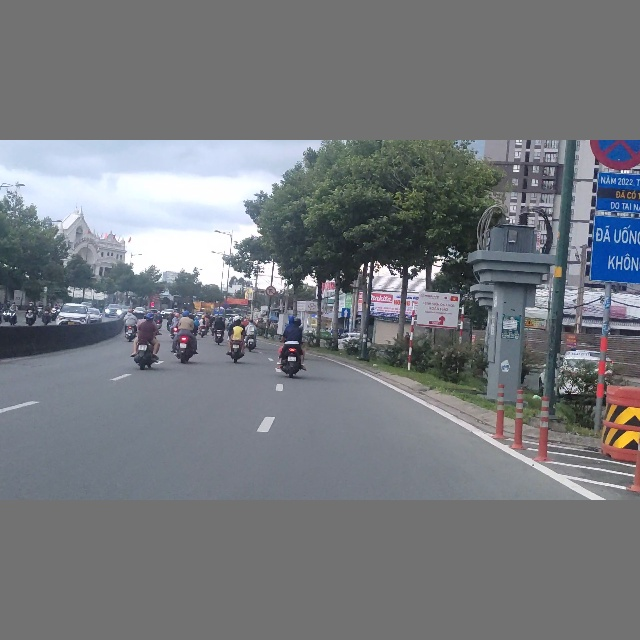I.407a: (342, 308, 351, 317)
P.123b: (266, 286, 276, 297)
